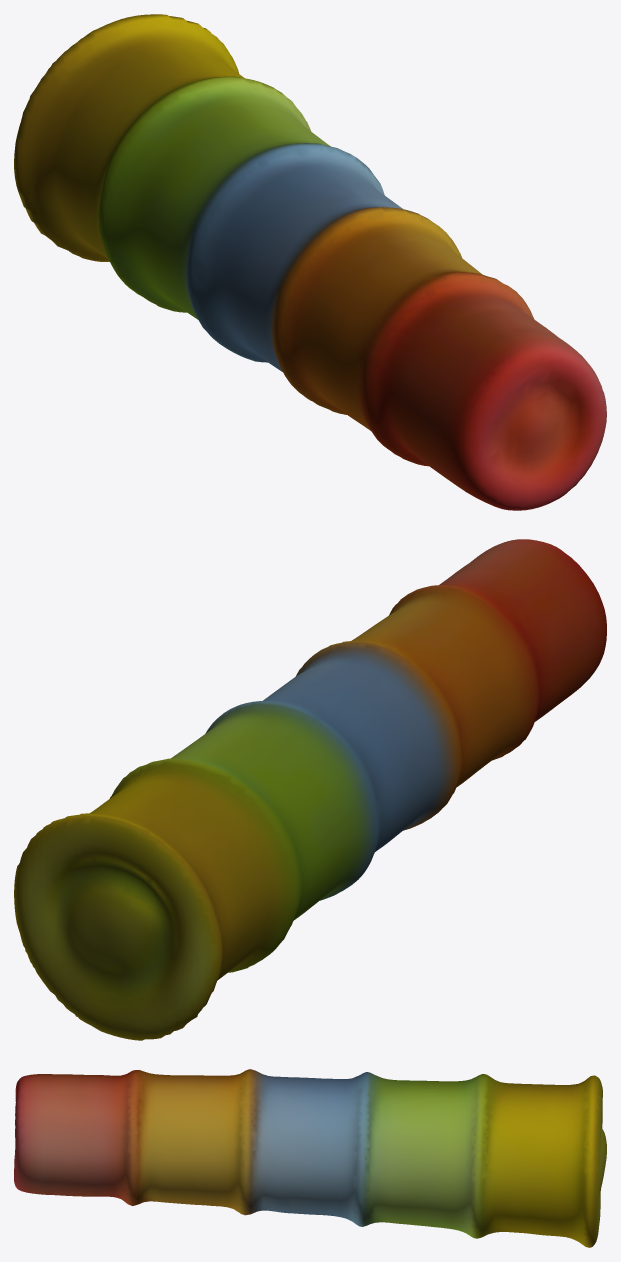
Rendered from stucking_cups.glb.
3 renders of one model, top to bottom at view 1: azimuth 30°, elevation 25°; view 2: azimuth 150°, elevation 25°; view 3: azimuth 270°, elevation 25°, orthographic. The views are drawn at different scales.
Size of the model in its own units: 0.2898 by 0.2964 by 0.9996.
